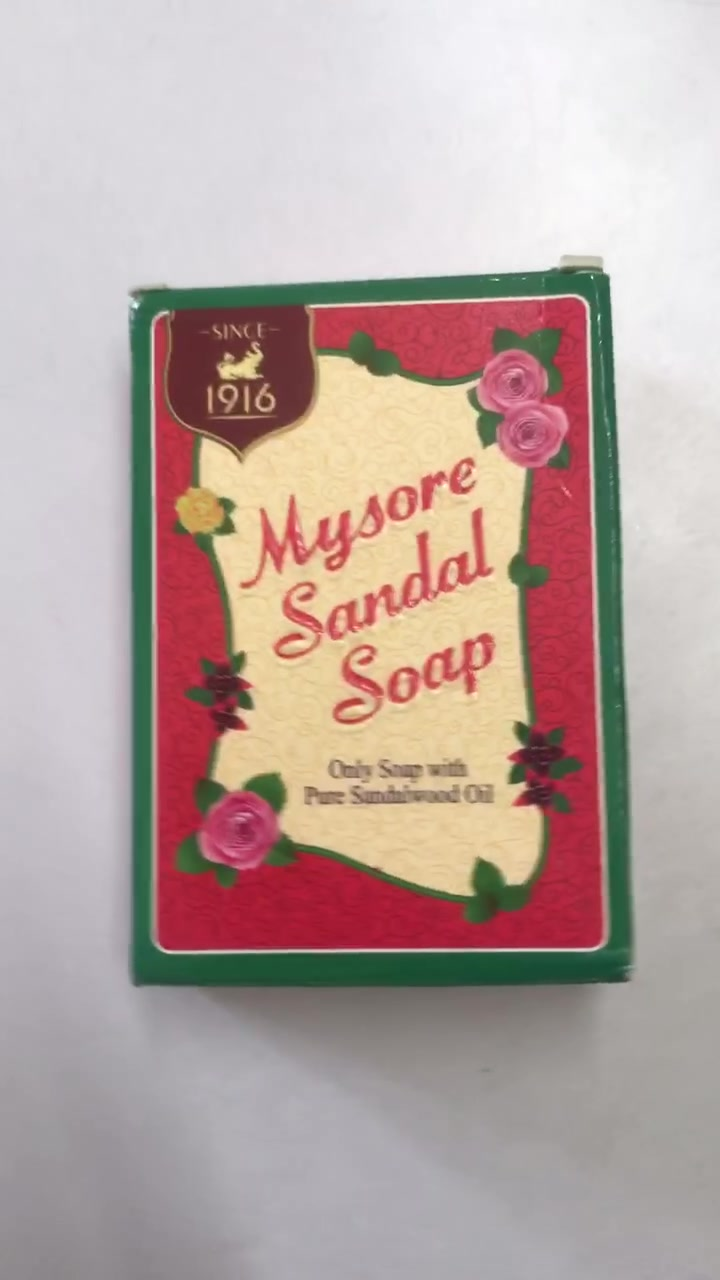mysore sandal soap: (123, 273, 633, 984)
